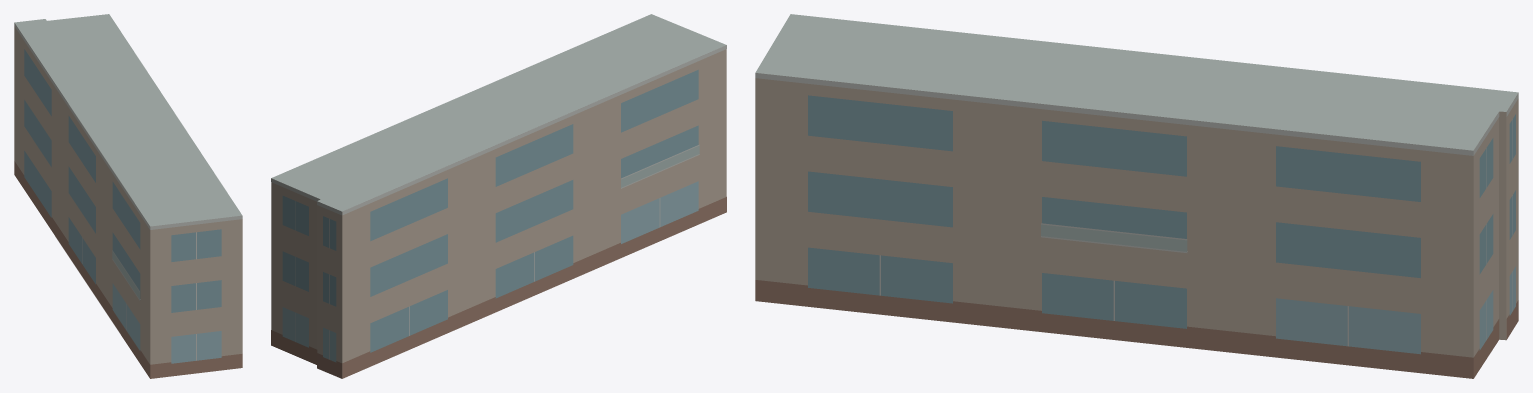
File: survey-upis-32748957.glb
3 renders of one model, left to right at view 1: azimuth 30°, elevation 25°; view 2: azimuth 150°, elevation 25°; view 3: azimuth 270°, elevation 25°, orthographic. The views are drawn at different scales.
Parts seen in each view (by area): view 1: survey-upis-32748957.tmp; view 2: survey-upis-32748957.tmp; view 3: survey-upis-32748957.tmp.
Boxes of the visible parts, bbox=[...] form: survey-upis-32748957.tmp: bbox=[14, 14, 242, 378]; survey-upis-32748957.tmp: bbox=[271, 14, 726, 378]; survey-upis-32748957.tmp: bbox=[755, 14, 1518, 378].
Size of the model in its own units: 13.5 by 10.5 by 31.84.
